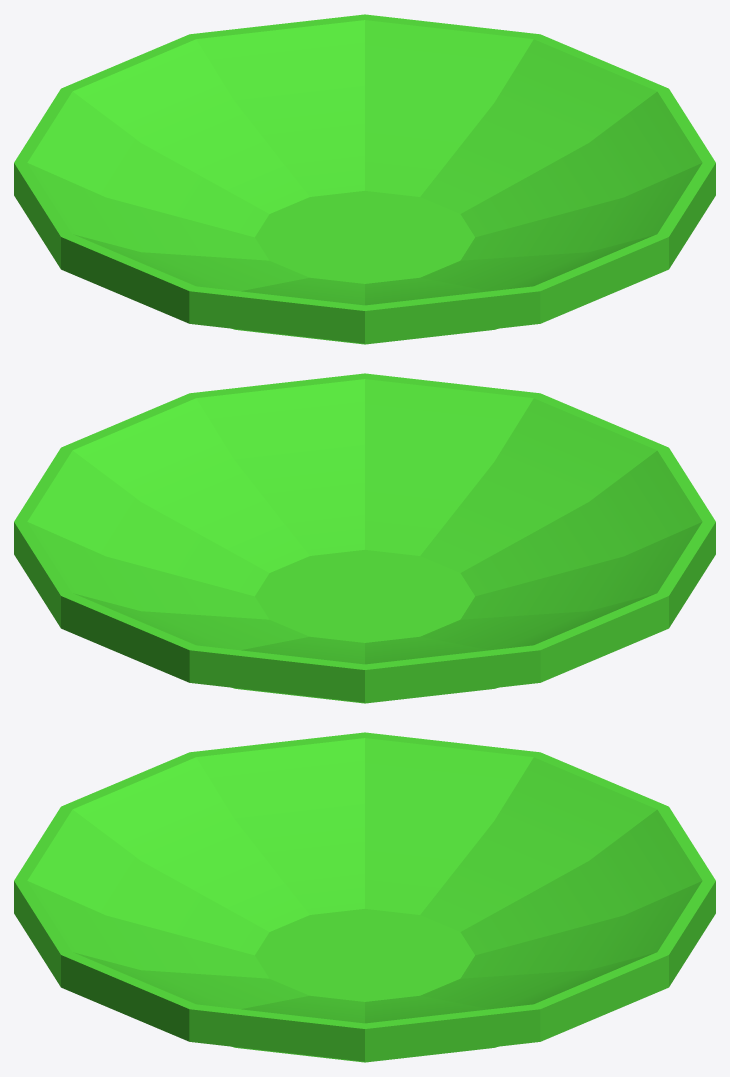
The model's file is Plate_01.fbx.
3 views of the same model, one above another, from view 1: azimuth 30°, elevation 25°; view 2: azimuth 150°, elevation 25°; view 3: azimuth 270°, elevation 25° (orthographic).
Visible parts, largest first — view 1: Plate_01; view 2: Plate_01; view 3: Plate_01.
Boxes of the visible parts, x1,y1,x2,y2 form: Plate_01: [14, 14, 715, 344]; Plate_01: [14, 373, 715, 703]; Plate_01: [14, 732, 715, 1062].
Size of the model in its own units: 42.67 by 7.19 by 42.67.
